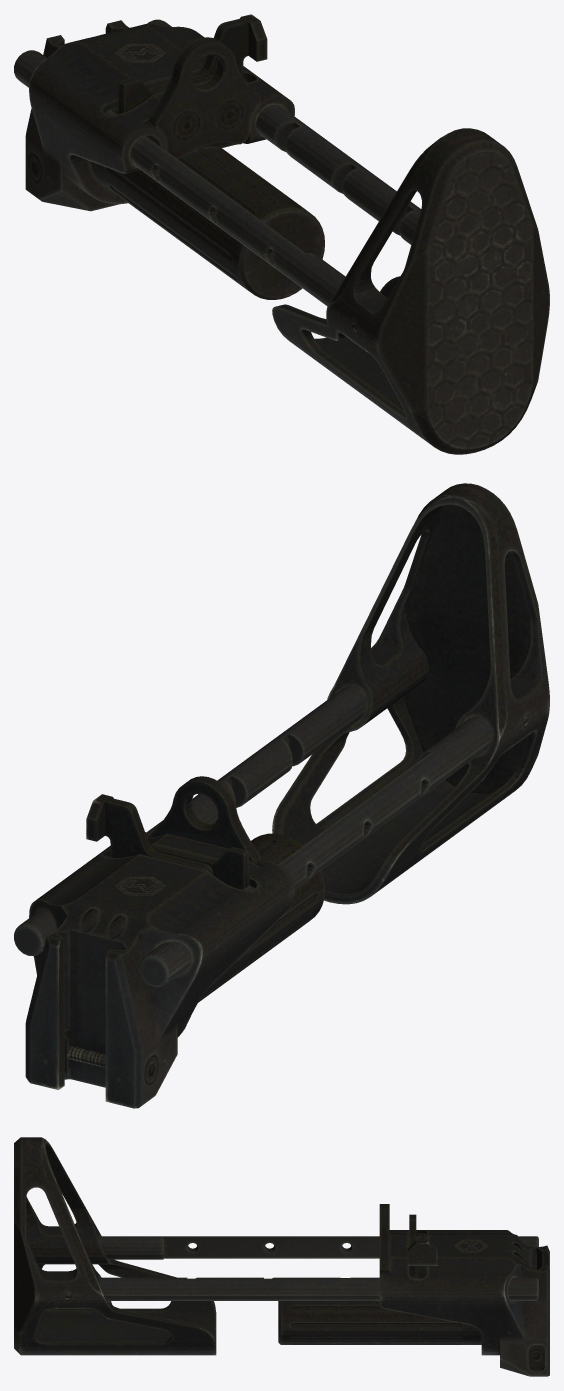
The picture shows the model from 3 angles, top to bottom: view 1: azimuth 30°, elevation 25°; view 2: azimuth 150°, elevation 25°; view 3: azimuth 270°, elevation 25°; orthographic projection. The views are drawn at different scales.
Visible parts, largest first — view 1: TW_5c5db6ee2e221600113fba54_PZ_Import; view 2: TW_5c5db6ee2e221600113fba54_PZ_Import; view 3: TW_5c5db6ee2e221600113fba54_PZ_Import.
Boxes of the visible parts, box(x1,y1,x2,y2) form: TW_5c5db6ee2e221600113fba54_PZ_Import: box(14, 14, 549, 454); TW_5c5db6ee2e221600113fba54_PZ_Import: box(14, 483, 549, 1108); TW_5c5db6ee2e221600113fba54_PZ_Import: box(14, 1137, 549, 1376).
Bounding box in the file's own units: 0.0325 × 0.1295 × 0.0581.
Materials: 1 (1 with a texture image).
